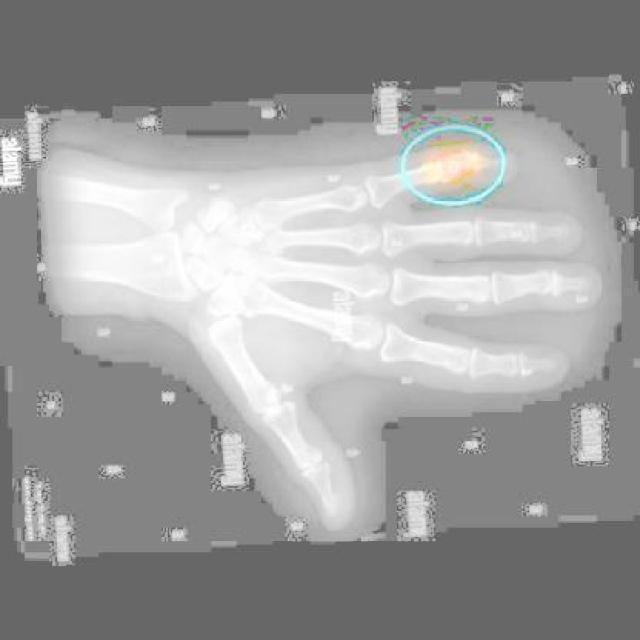Fracture: (430, 140, 488, 189)
